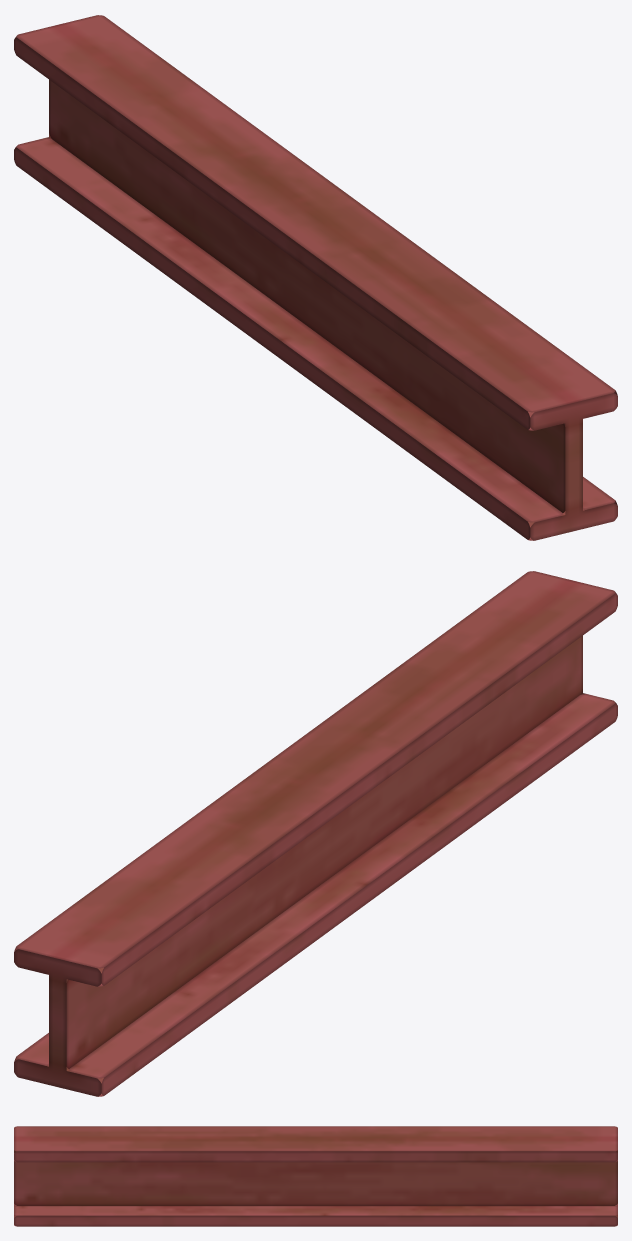
Rendered from I-Beam.fbx.
3 renders of one model, top to bottom at view 1: azimuth 30°, elevation 25°; view 2: azimuth 150°, elevation 25°; view 3: azimuth 270°, elevation 25°, orthographic. The views are drawn at different scales.
Visible parts, largest first — view 1: I-Beam; view 2: I-Beam; view 3: I-Beam.
Part boxes in pixels (<box>): I-Beam: <box>14,15,617,540</box>; I-Beam: <box>14,571,617,1096</box>; I-Beam: <box>14,1126,617,1226</box>.
Size of the model in its own units: 31.25 by 43.75 by 319.
Materials: 1 (1 with a texture image).
